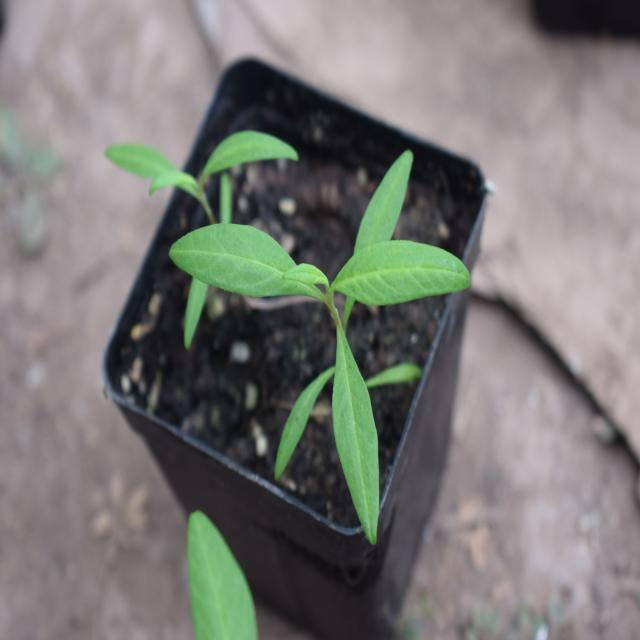white_smart_weed: (154, 155, 464, 541)
